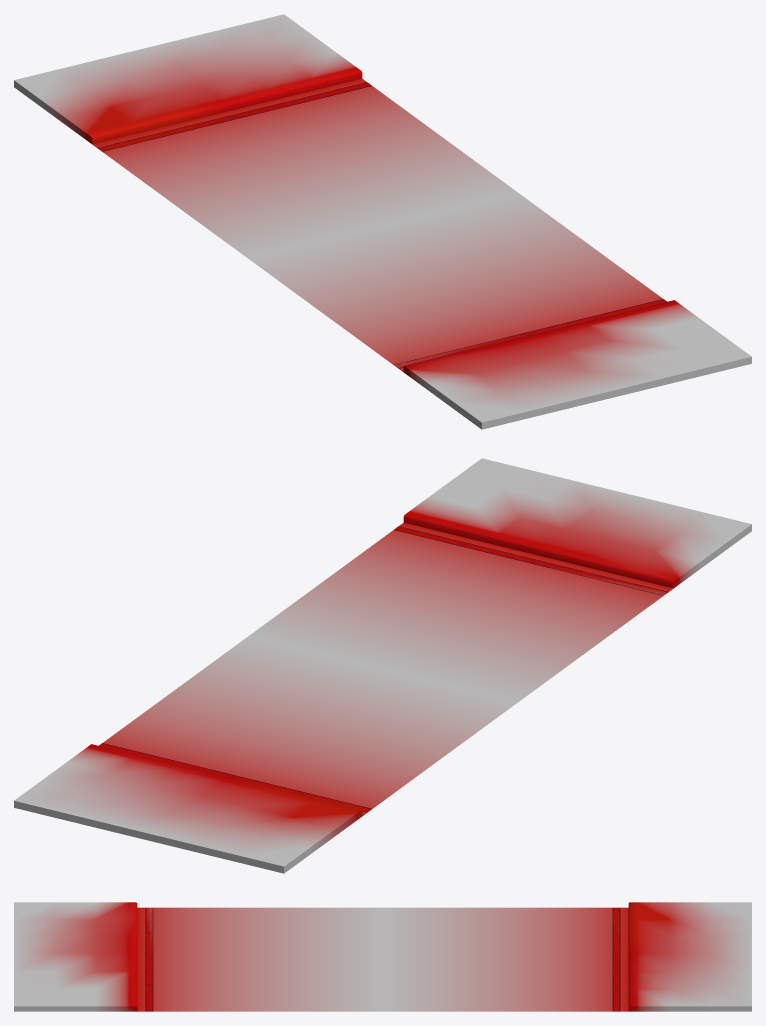
File: Street_4Lane.gltf
3 renders of one model, top to bottom at view 1: azimuth 30°, elevation 25°; view 2: azimuth 150°, elevation 25°; view 3: azimuth 270°, elevation 25°, orthographic. The views are drawn at different scales.
Parts seen in each view (by area): view 1: Street_4Lane; view 2: Street_4Lane; view 3: Street_4Lane.
Part boxes in pixels (x1,y1,x2,y2): Street_4Lane: [14, 14, 751, 429]; Street_4Lane: [14, 458, 751, 873]; Street_4Lane: [14, 902, 751, 1011].
Size of what is drawn, in the model's own units: 6 by 0.15 by 18.
